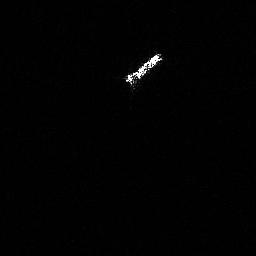ship: (122, 50, 165, 89)
